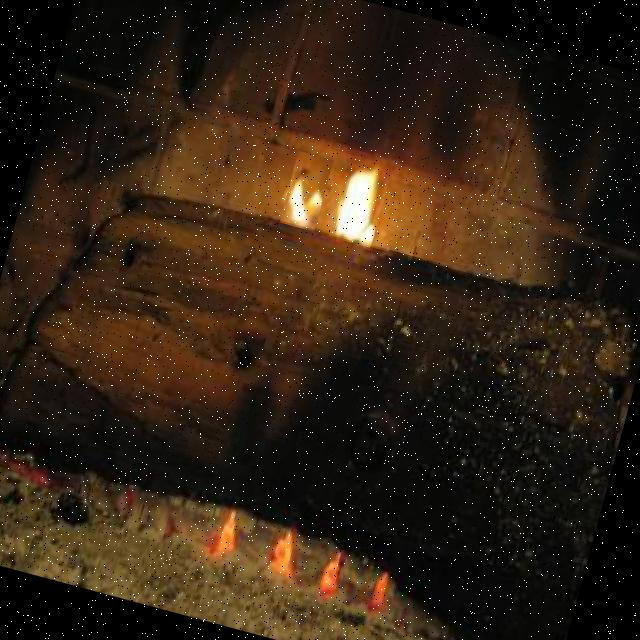fire: (327, 150, 393, 250), (279, 150, 333, 232)
